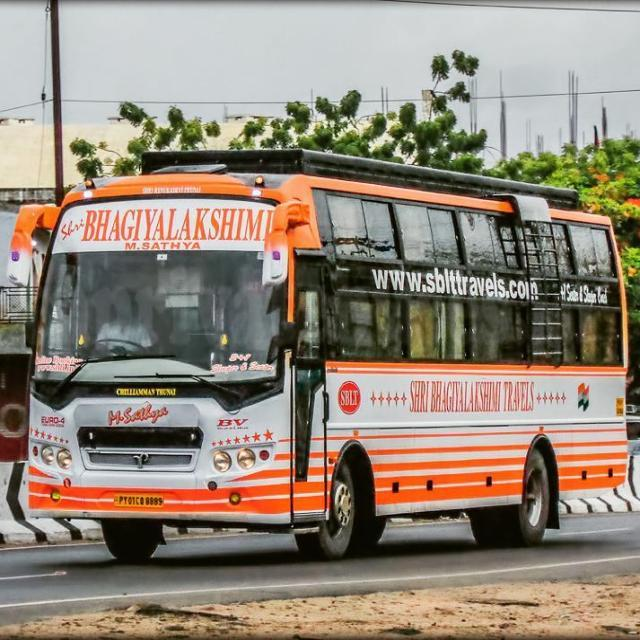Bus: (6, 143, 633, 564)
